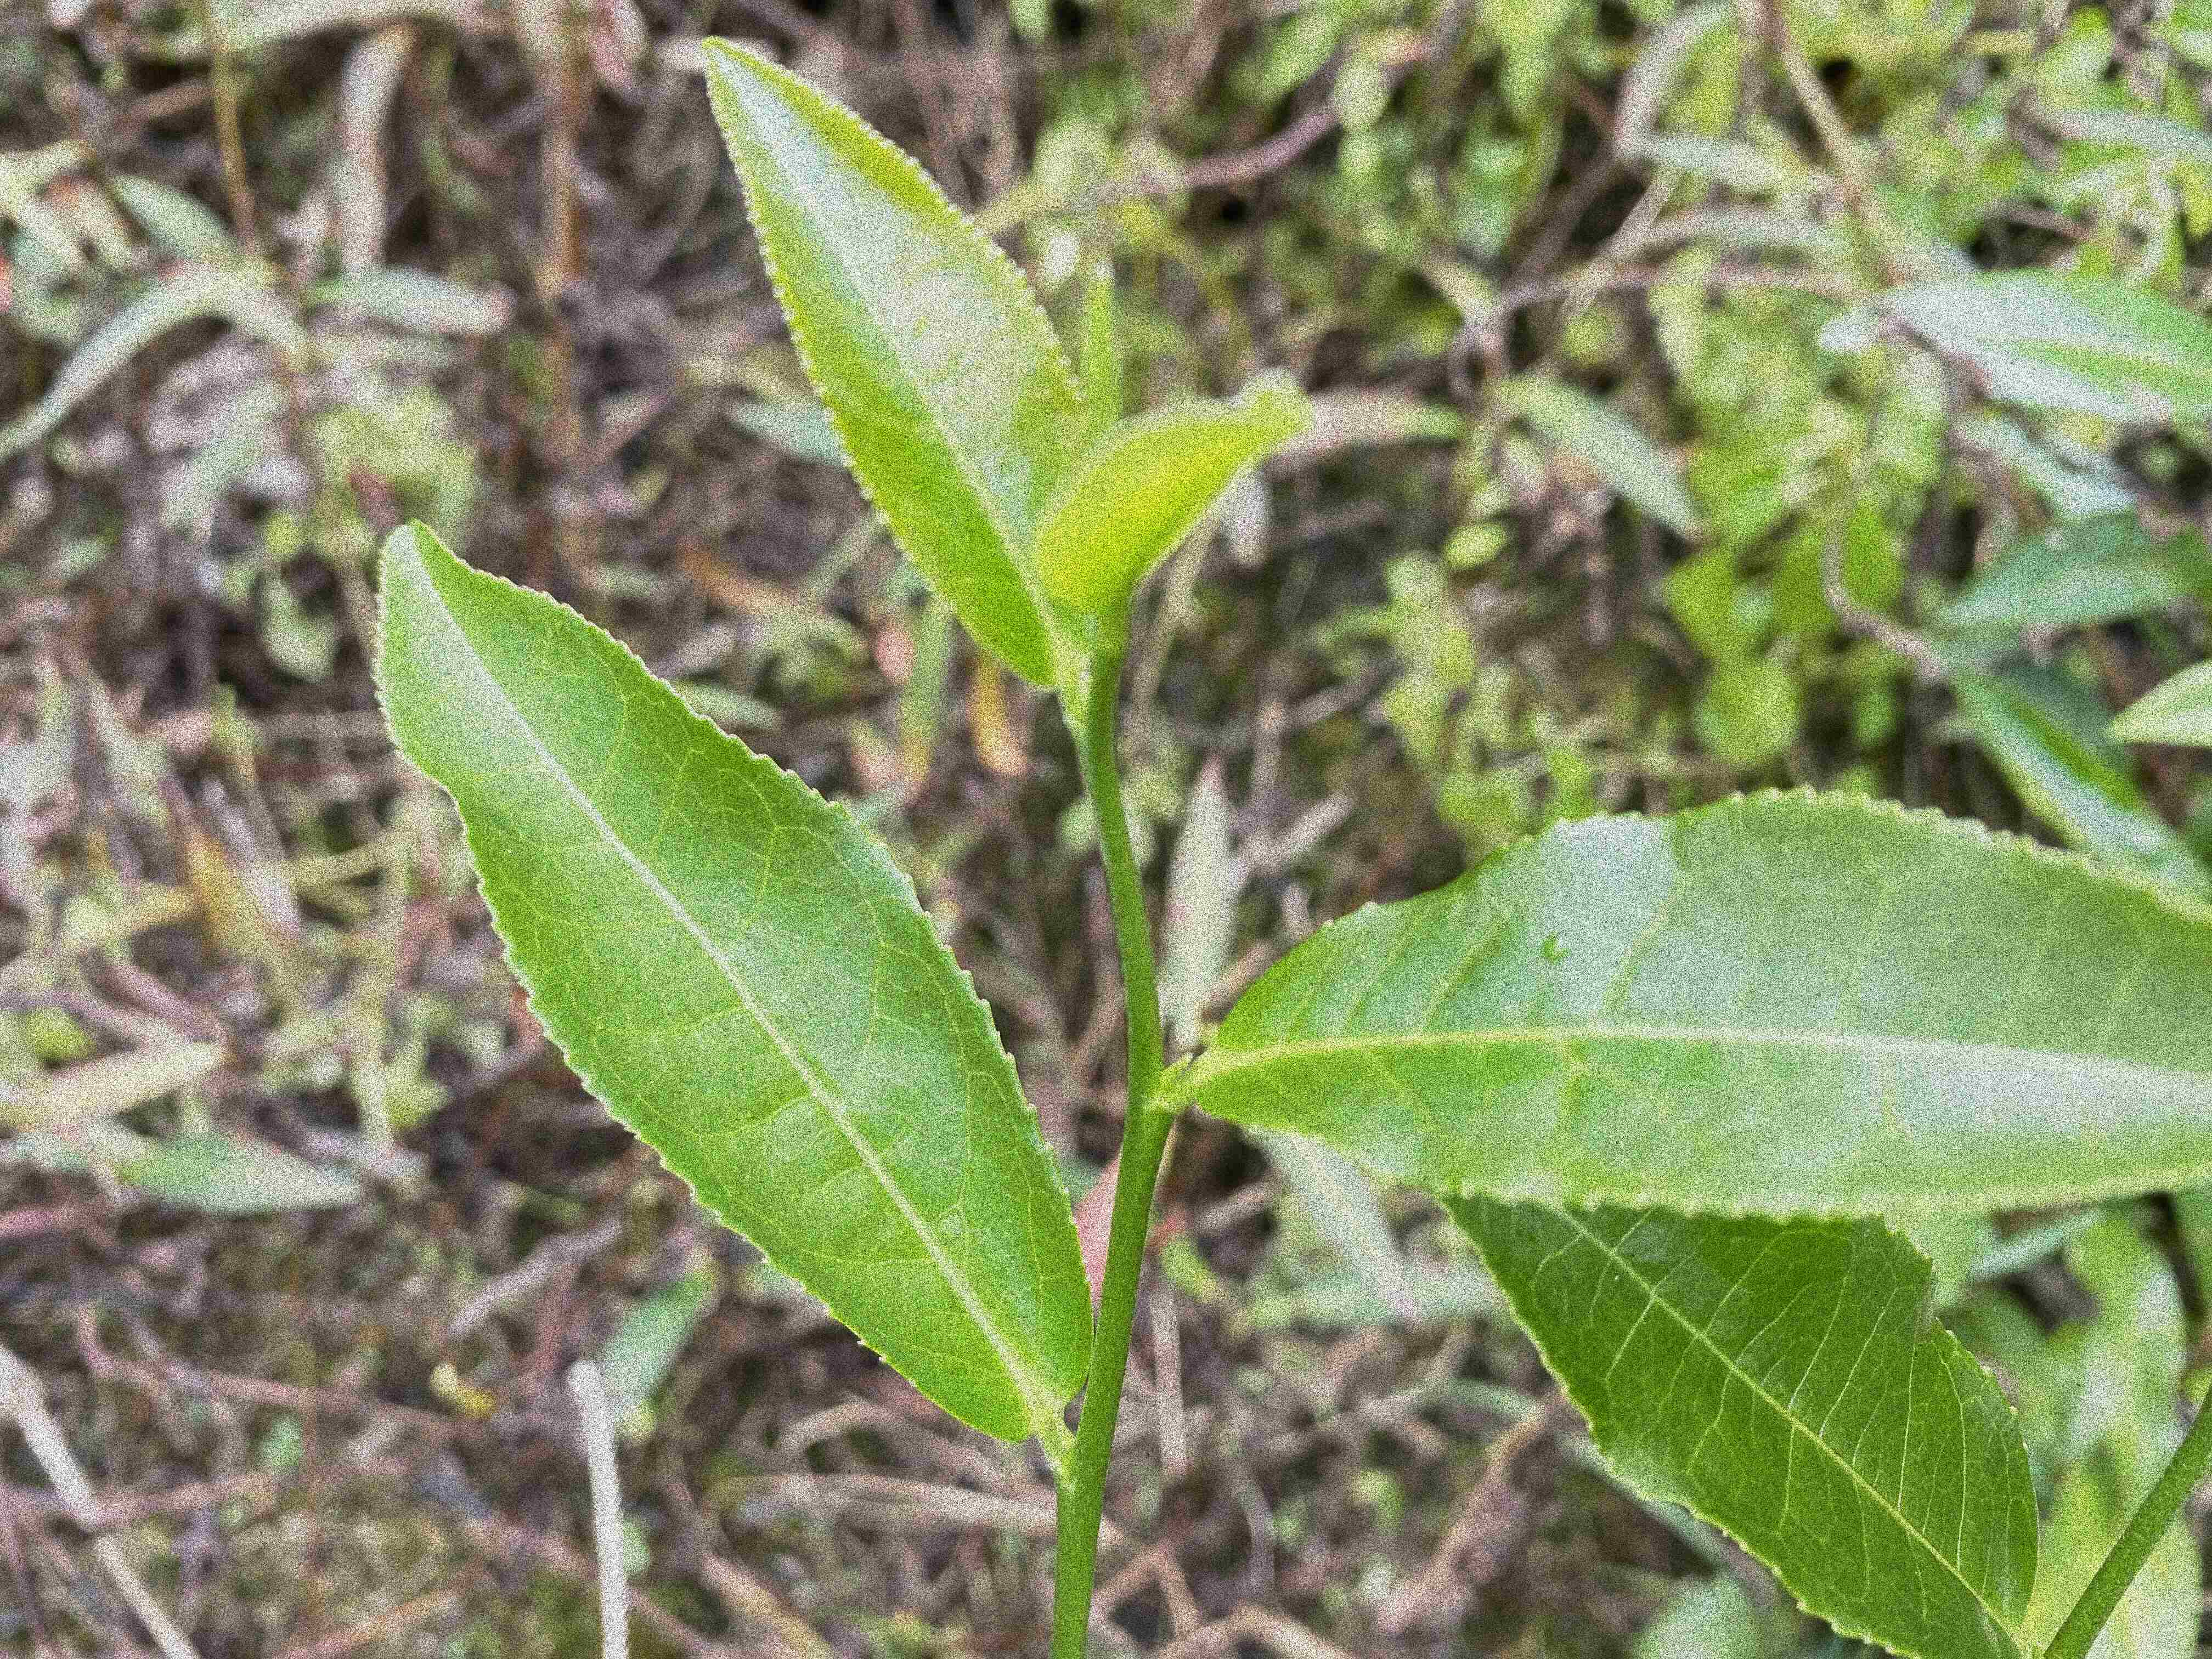healthy: (368, 514, 1094, 1441), (1193, 775, 2209, 1220), (1432, 1197, 2040, 1657), (695, 33, 1097, 692)
